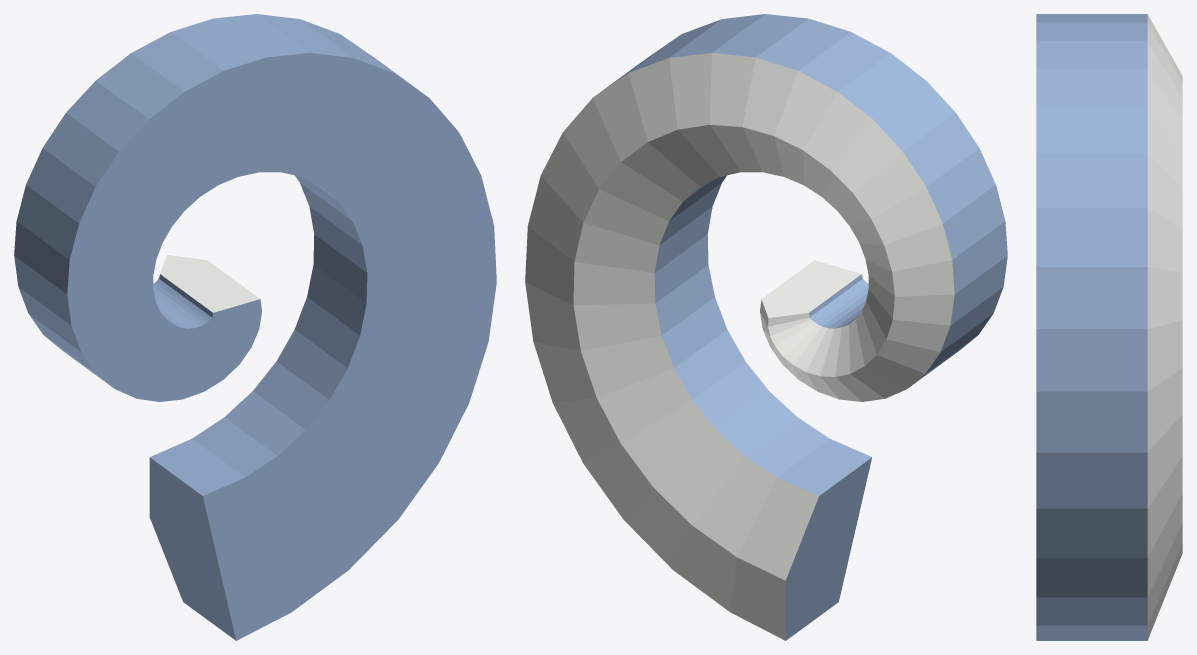
The picture shows the model from 3 angles, left to right: view 1: azimuth 30°, elevation 25°; view 2: azimuth 150°, elevation 25°; view 3: azimuth 270°, elevation 25°; orthographic projection. The views are drawn at different scales.
Visible parts, largest first — view 1: 背面补全卷纸.001; view 2: 背面补全卷纸.001; view 3: 背面补全卷纸.001.
Part boxes in pixels (bbox=[...]): 背面补全卷纸.001: bbox=[14, 14, 496, 640]; 背面补全卷纸.001: bbox=[525, 14, 1007, 640]; 背面补全卷纸.001: bbox=[1036, 14, 1182, 640].
Bounding box in the file's own units: 0.4735 × 0.6069 × 0.1334.
